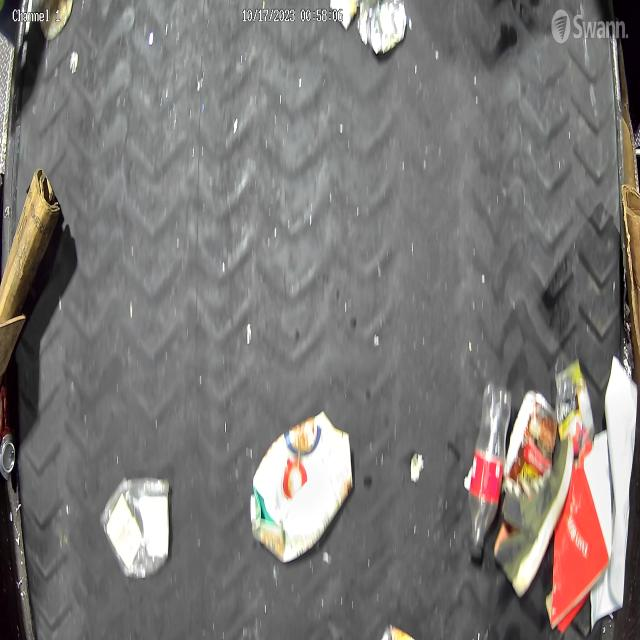can: (0, 390, 17, 481)
non_white_jug: (250, 411, 354, 562)
plastic_bottle: (468, 377, 510, 556)
